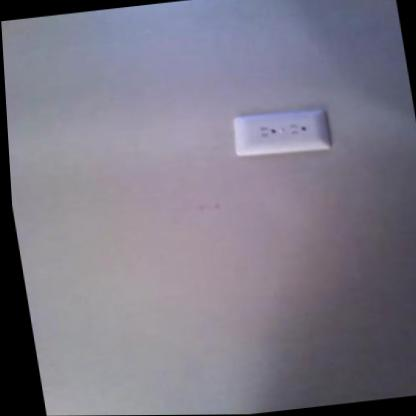OUTLET: (228, 108, 330, 157)
